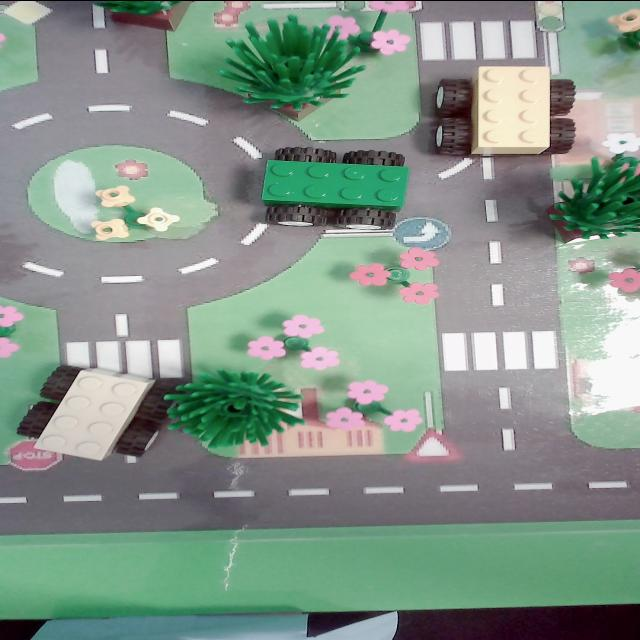Car: (244, 139, 416, 237), (422, 60, 576, 164), (14, 360, 170, 462)
Flower: (212, 12, 368, 126), (241, 312, 347, 370), (351, 242, 445, 306), (320, 379, 426, 434), (320, 0, 414, 62), (88, 184, 184, 244), (607, 2, 640, 57), (0, 303, 30, 362), (600, 254, 640, 298)
Tree: (162, 368, 304, 452), (542, 152, 640, 248), (84, 0, 204, 36)
